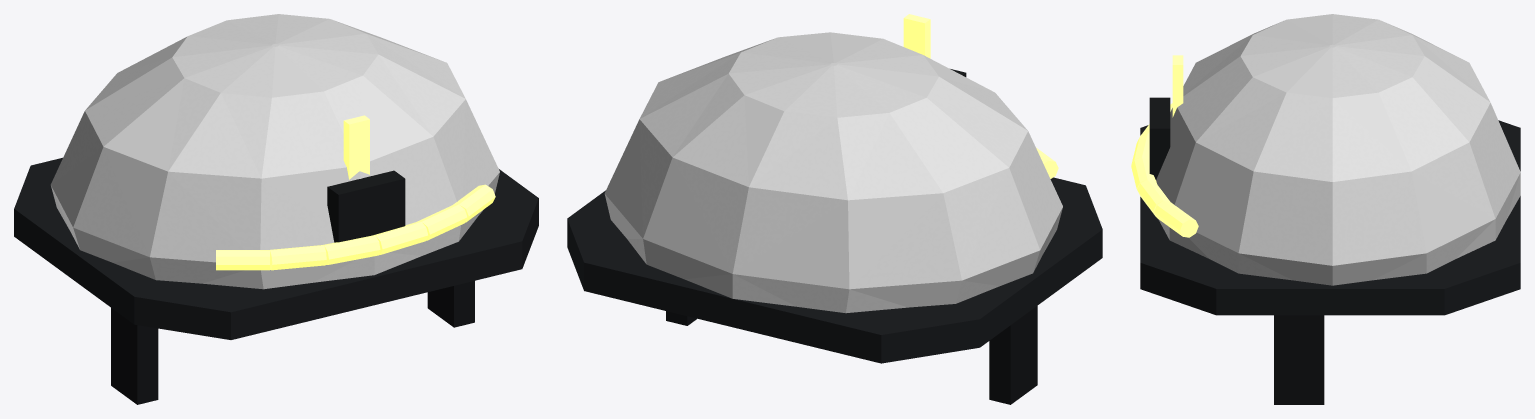
File: blackout.glb
3 renders of one model, left to right at view 1: azimuth 30°, elevation 25°; view 2: azimuth 150°, elevation 25°; view 3: azimuth 270°, elevation 25°, orthographic. The views are drawn at different scales.
Visible parts, largest first — view 1: Blackout Helmet.002; view 2: Blackout Helmet.002; view 3: Blackout Helmet.002.
Boxes of the visible parts, left/top/right/bottom form: Blackout Helmet.002: left=14, top=14, right=538, bottom=404; Blackout Helmet.002: left=567, top=14, right=1102, bottom=404; Blackout Helmet.002: left=1131, top=14, right=1520, bottom=404.
Bounding box in the file's own units: 0.6996 × 0.4889 × 0.615.
Materials: 3 (1 with a texture image).
